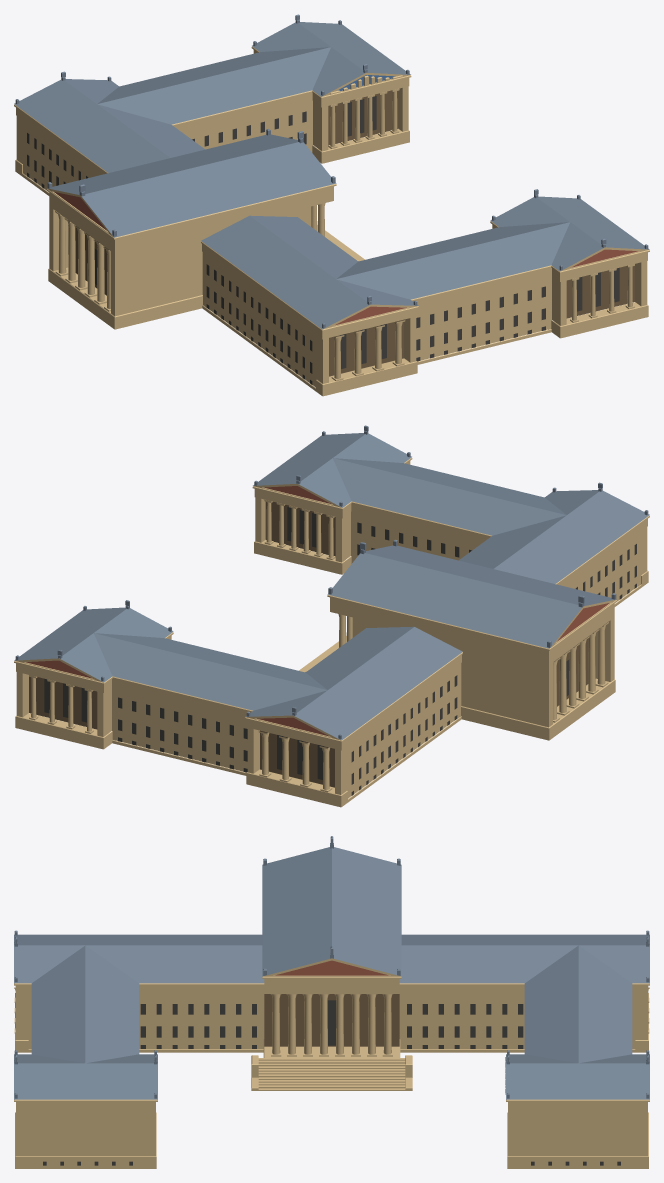
The model's file is phl-museum-of-art.glb.
3 views of the same model, one above another, from view 1: azimuth 30°, elevation 25°; view 2: azimuth 150°, elevation 25°; view 3: azimuth 270°, elevation 25° (orthographic). The views are drawn at different scales.
Visible parts, largest first — view 1: Philadelphia Museum of Art; view 2: Philadelphia Museum of Art; view 3: Philadelphia Museum of Art.
Boxes of the visible parts, x1,y1,x2,y2 form: Philadelphia Museum of Art: (14,14,649,396); Philadelphia Museum of Art: (14,425,649,807); Philadelphia Museum of Art: (14,836,649,1168).
Size of the model in its own units: 135 by 37.42 by 174.
